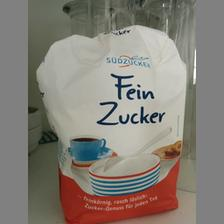Zucker: (34, 22, 188, 222)
